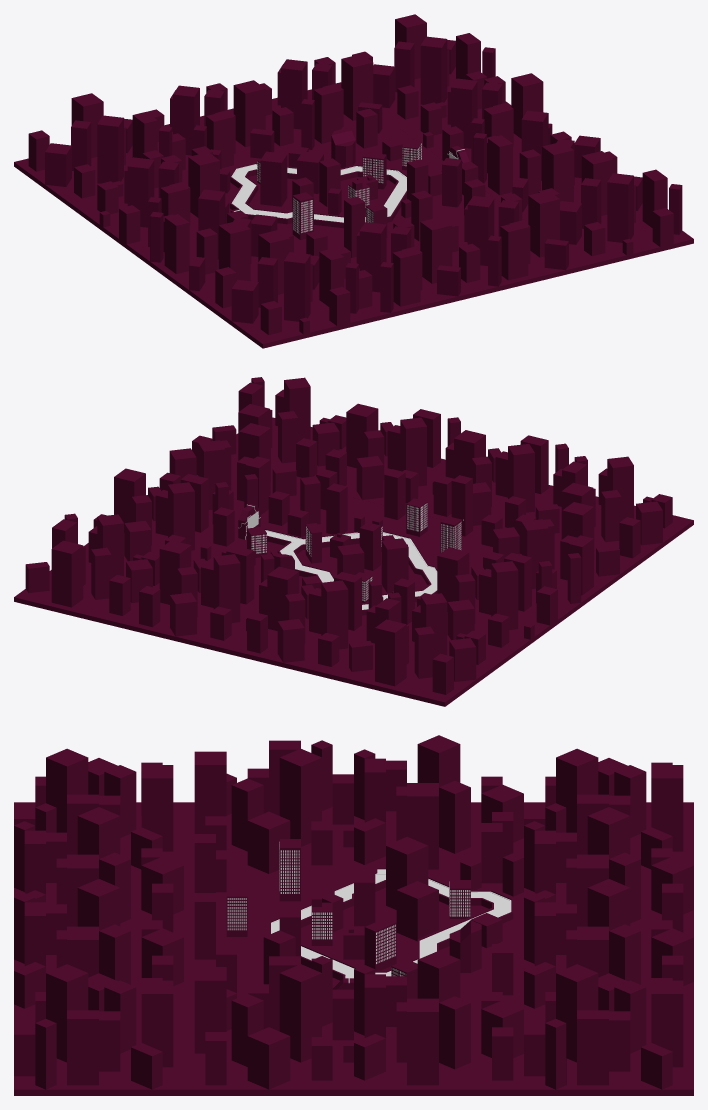
File: CyberCity.fbx
3 views of the same model, one above another, from view 1: azimuth 30°, elevation 25°; view 2: azimuth 150°, elevation 25°; view 3: azimuth 270°, elevation 25° (orthographic). The views are drawn at different scales.
Visible parts, largest first — view 1: Background, Template; view 2: Background, Template; view 3: Background, Template, Window Collumns.002.
Part boxes in pixels (x1=…): Background: x1=14, y1=14, x2=693, y2=348; Template: x1=184, y1=108, x2=523, y2=261; Background: x1=14, y1=377, x2=693, y2=706; Template: x1=206, y1=469, x2=502, y2=624; Background: x1=14, y1=735, x2=693, y2=1095; Template: x1=184, y1=823, x2=523, y2=1017; Window Collumns.002: x1=280, y1=850, x2=299, y2=893.
Bounding box in the file's own units: 20000 × 2820 × 20000.
